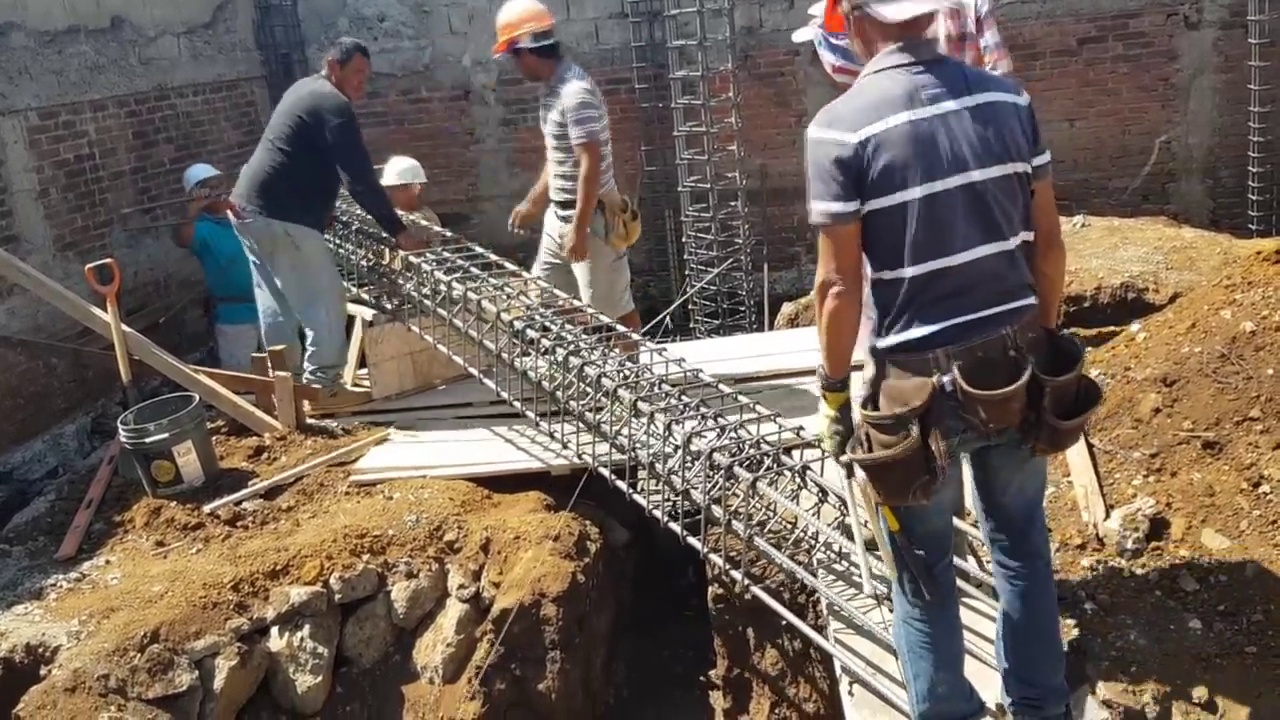helmet: (487, 2, 556, 59), (382, 153, 426, 192), (178, 162, 220, 193)
helmet-off: (840, 0, 946, 81), (314, 35, 368, 102)
helmet-on: (487, 0, 567, 91), (383, 155, 430, 218), (176, 161, 221, 215)
person: (789, 0, 1087, 720), (225, 33, 408, 375), (492, 4, 631, 347), (174, 148, 263, 376), (371, 149, 438, 242)
